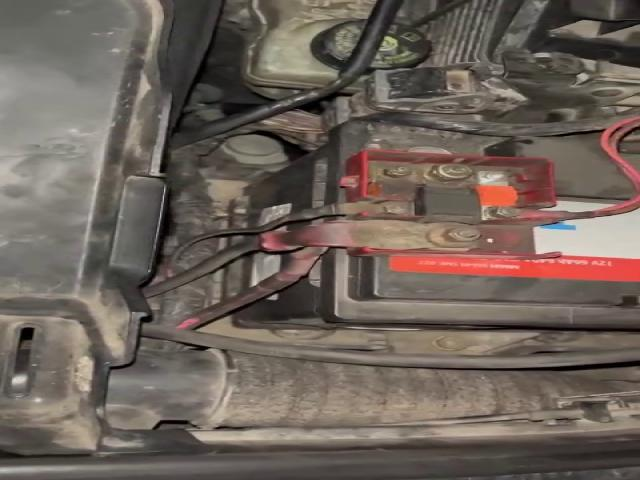accumulator: (228, 123, 640, 330)
